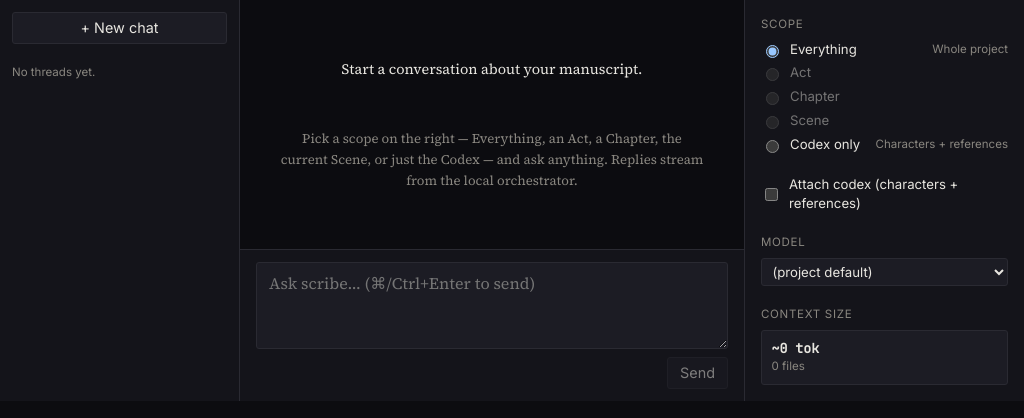
Test: ChatView › creating a new thread adds it to Dexie and the sidebar
The image size is (1024, 418).
Click the button "+ New chat" at (120, 28), box [12,12,227,44]
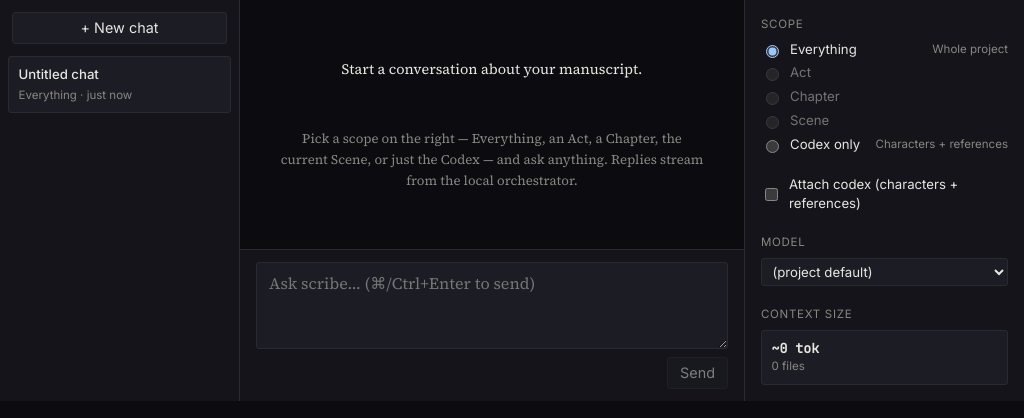
Result: the text "Untitled chat" is shown at [19,66,99,82]
